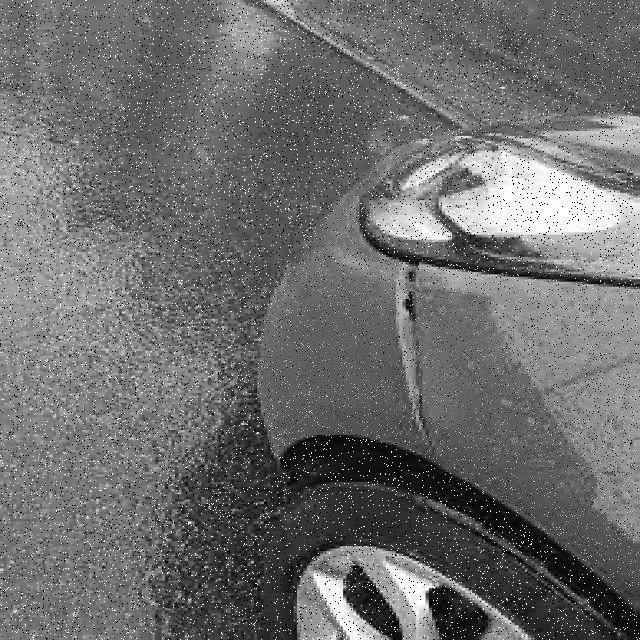front-bumper-dent: (241, 161, 521, 561)
